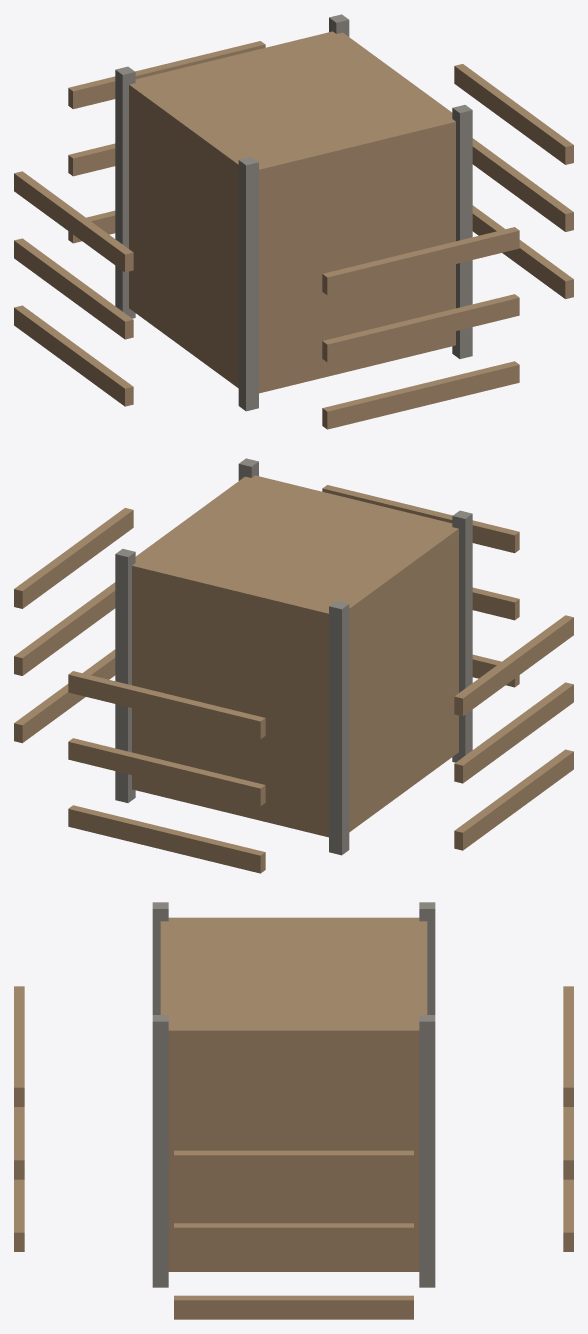
Rendered from WoodenCrate.fbx.
3 views of the same model, one above another, from view 1: azimuth 30°, elevation 25°; view 2: azimuth 150°, elevation 25°; view 3: azimuth 270°, elevation 25° (orthographic). The views are drawn at different scales.
Parts seen in each view (by area): view 1: WoodenCrate; view 2: WoodenCrate; view 3: WoodenCrate.
Part boxes in pixels (x1,y1,x2,y2): WoodenCrate: (14, 14, 573, 429); WoodenCrate: (14, 458, 573, 873); WoodenCrate: (14, 902, 573, 1319).
Bounding box in the file's own units: 105 × 55 × 105.
